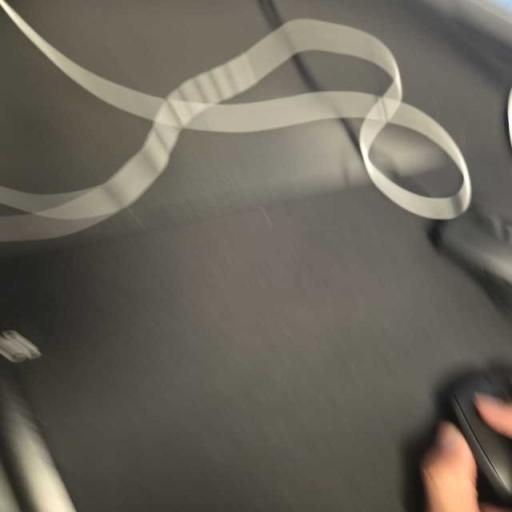person: (422, 423, 510, 511)
